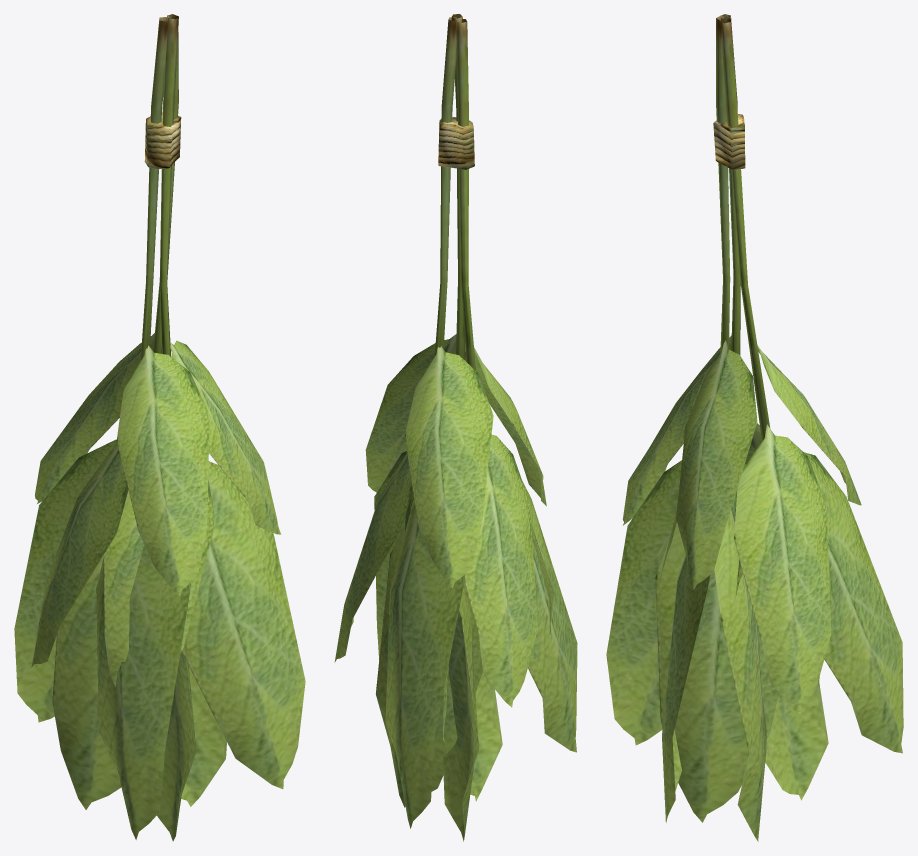
The model's file is Basil_Single.fbx.
3 views of the same model, side by side, from view 1: azimuth 30°, elevation 25°; view 2: azimuth 150°, elevation 25°; view 3: azimuth 270°, elevation 25° (orthographic). The views are drawn at different scales.
Visible parts, largest first — view 1: BasilLeaf.001, BasilStem.003, Rope; view 2: BasilLeaf.001, BasilStem.003, Rope; view 3: BasilLeaf.001, BasilStem.003, Rope.
Part boxes in pixels (x1=…): BasilLeaf.001: x1=14, y1=333, x2=305, y2=841; BasilStem.003: x1=140, y1=14, x2=178, y2=360; Rope: x1=144, y1=112, x2=181, y2=169; BasilLeaf.001: x1=334, y1=334, x2=577, y2=841; BasilStem.003: x1=434, y1=14, x2=475, y2=370; Rope: x1=438, y1=117, x2=474, y2=169; BasilLeaf.001: x1=606, y1=334, x2=903, y2=841; BasilStem.003: x1=716, y1=14, x2=770, y2=441; Rope: x1=713, y1=114, x2=745, y2=169.
Size of the model in its own units: 303 by 1139 by 379.
Materials: 2 (2 with a texture image).
